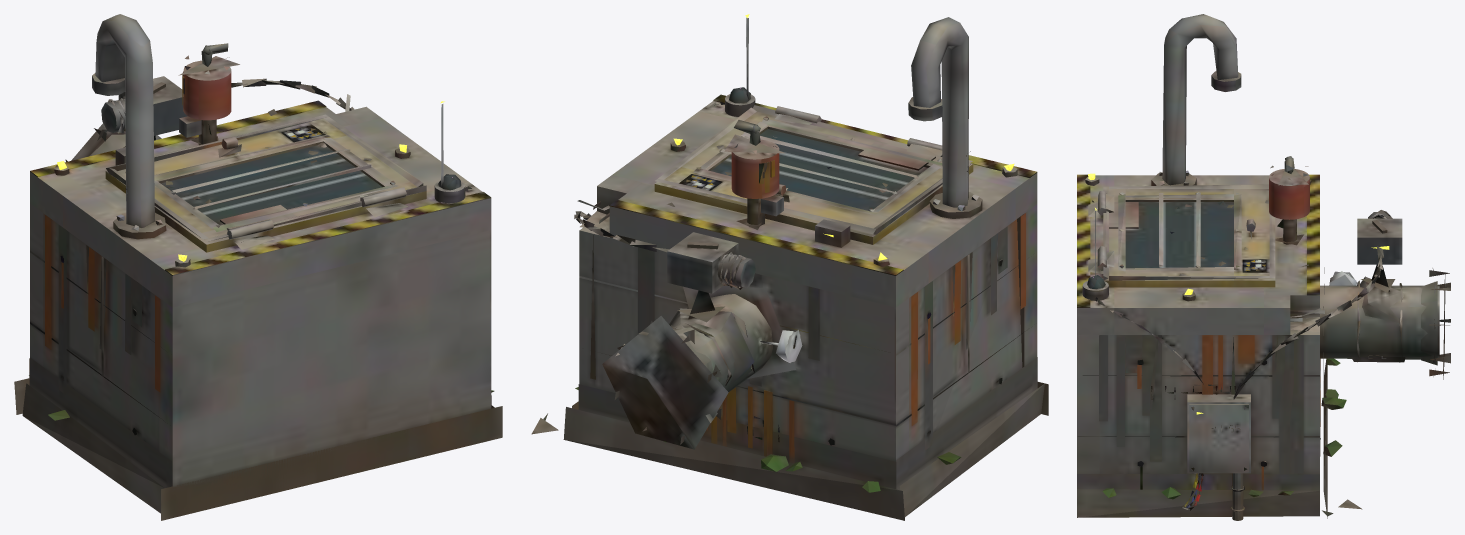
The model's file is cano_subterraneo_saida.glb.
3 renders of one model, left to right at view 1: azimuth 30°, elevation 25°; view 2: azimuth 150°, elevation 25°; view 3: azimuth 270°, elevation 25°, orthographic. The views are drawn at different scales.
Visible parts, largest first — view 1: cano_subterraneo_saida_corpo; view 2: cano_subterraneo_saida_corpo; view 3: cano_subterraneo_saida_corpo.
Boxes of the visible parts, x1,y1,x2,y2 form: cano_subterraneo_saida_corpo: [14, 14, 502, 520]; cano_subterraneo_saida_corpo: [531, 14, 1048, 520]; cano_subterraneo_saida_corpo: [1077, 14, 1450, 520].
Size of the model in its own units: 0.9812 by 1.11 by 1.
4 materials, 1 textured.
